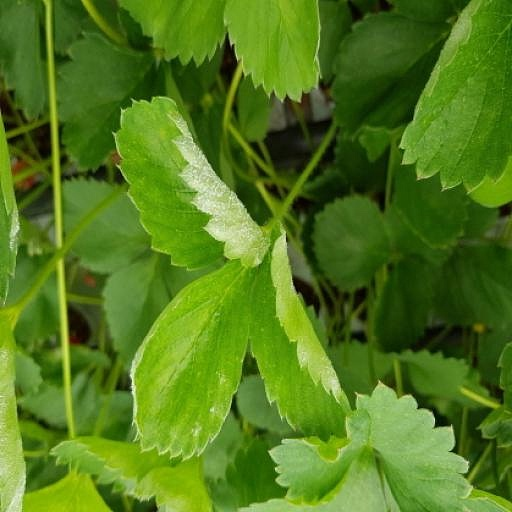Powdery Mildew Leaf: (243, 240, 399, 416), (252, 50, 384, 253), (159, 67, 264, 292), (491, 206, 511, 392)
